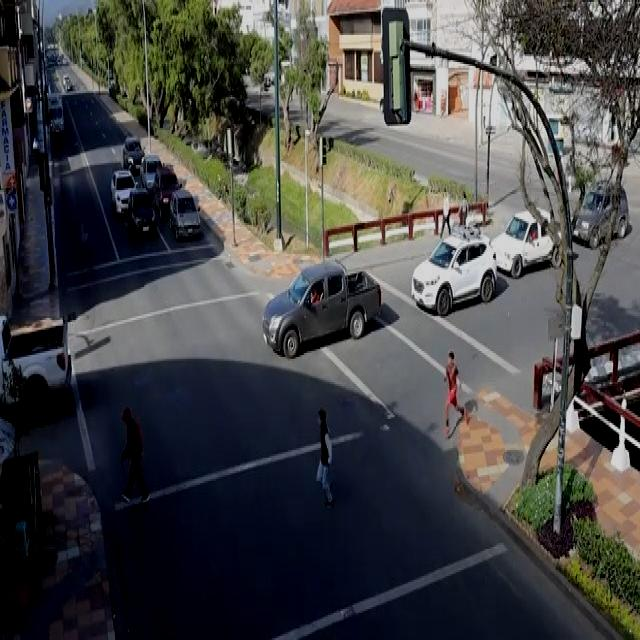CMT: (259, 262, 384, 355)
